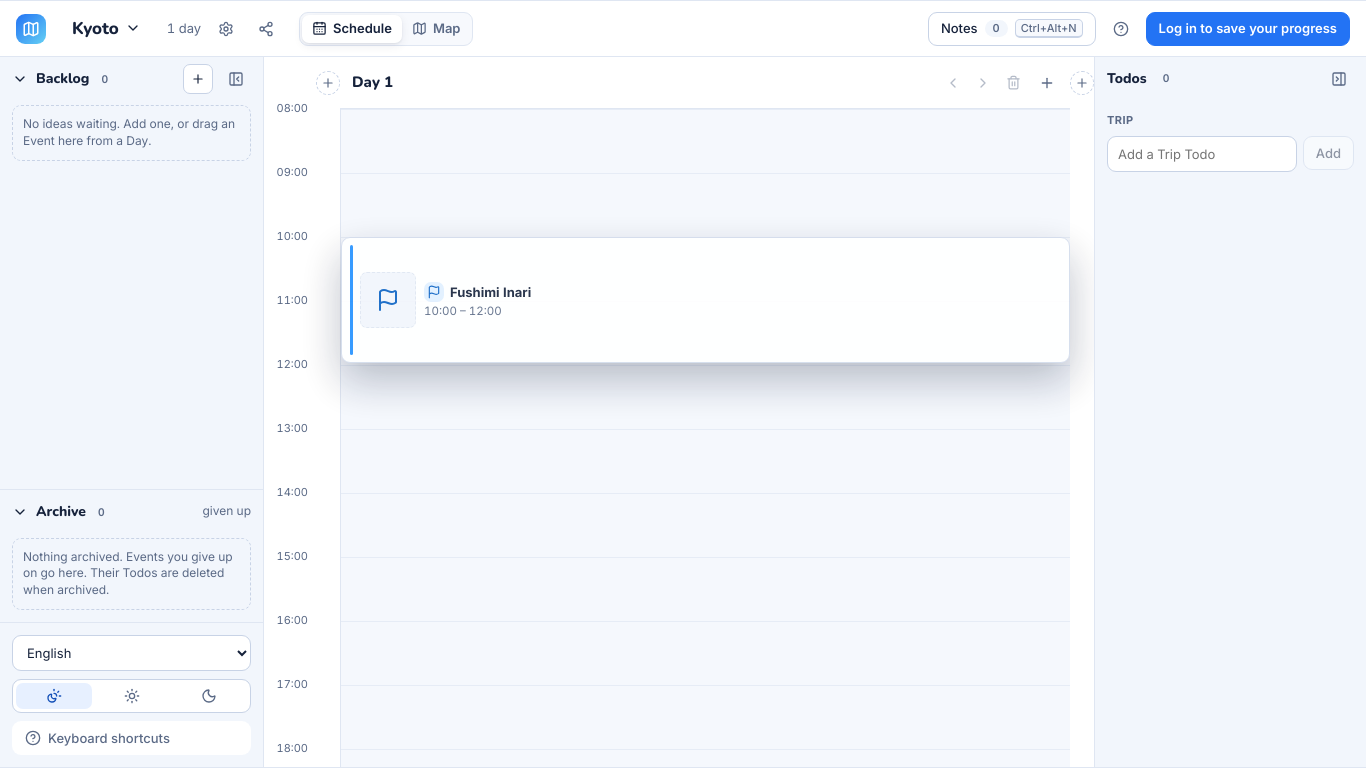
Scenario: one Trip at a time › shows the next Trip after the one shown is deleted
Expected: the text "Fushimi Inari" is shown, [450,284,531,300]
# Delete Trip… is in Trip settings, not in My Trips.
Click the button named "Trip settings": (226, 28) [211,14,241,44]
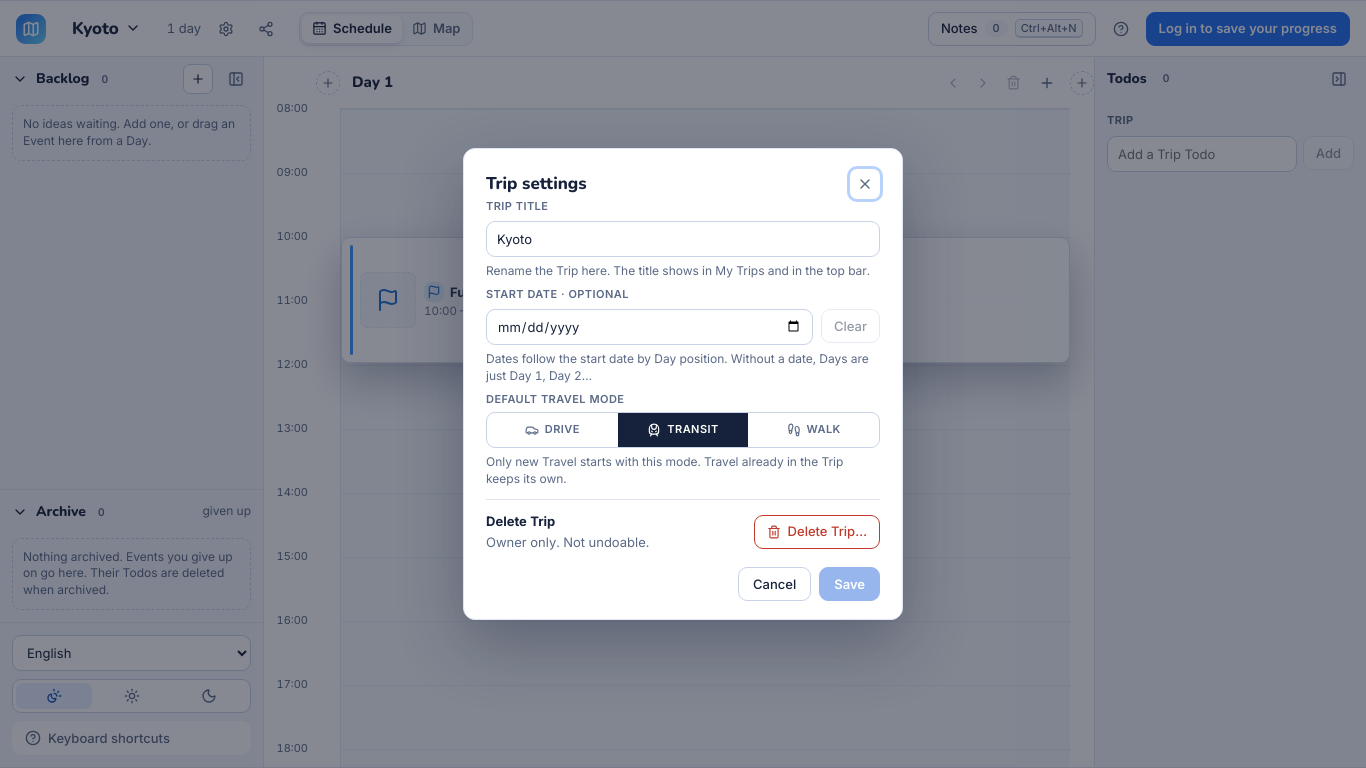
Click the button "Delete Trip…": (817, 532) [754,515,880,549]
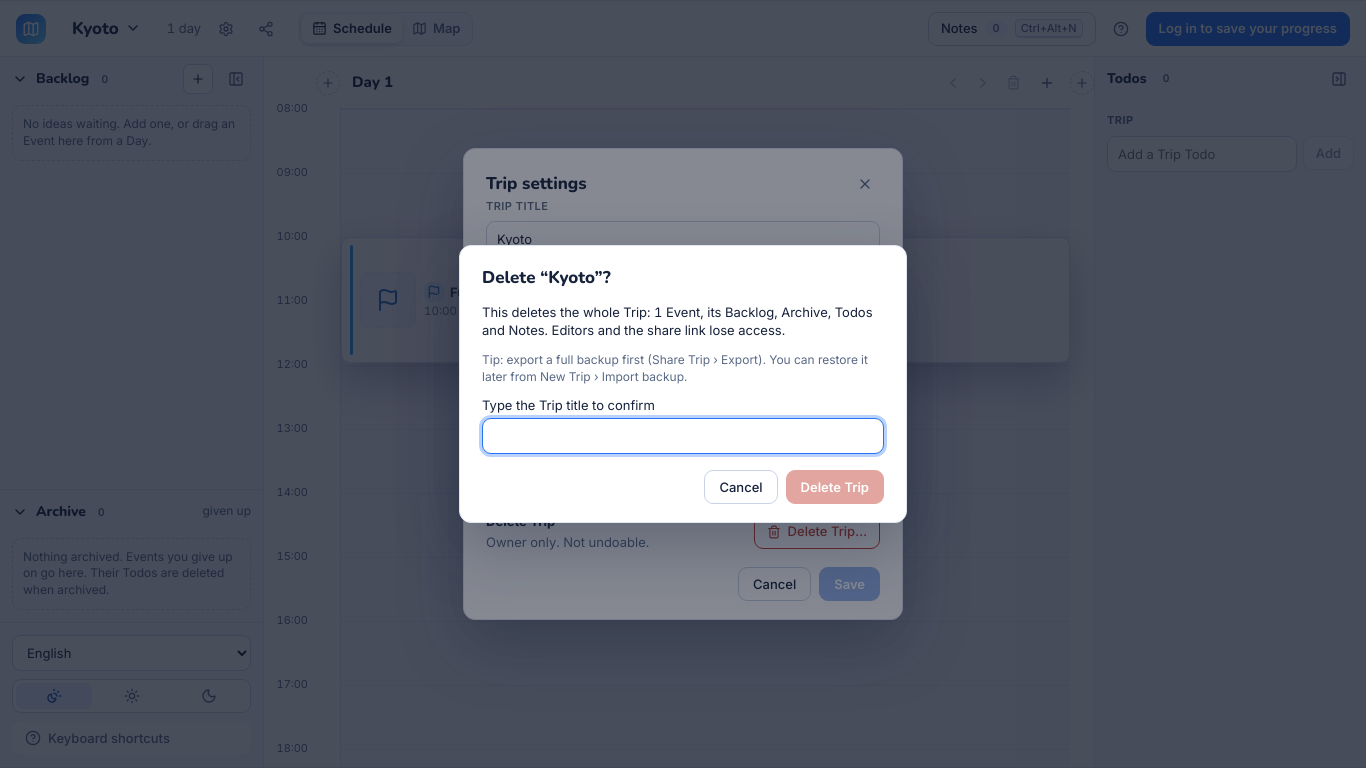
In the field labelled "Type the Trip title to confirm": (683, 436) [482,418,884,454], type "Kyoto"
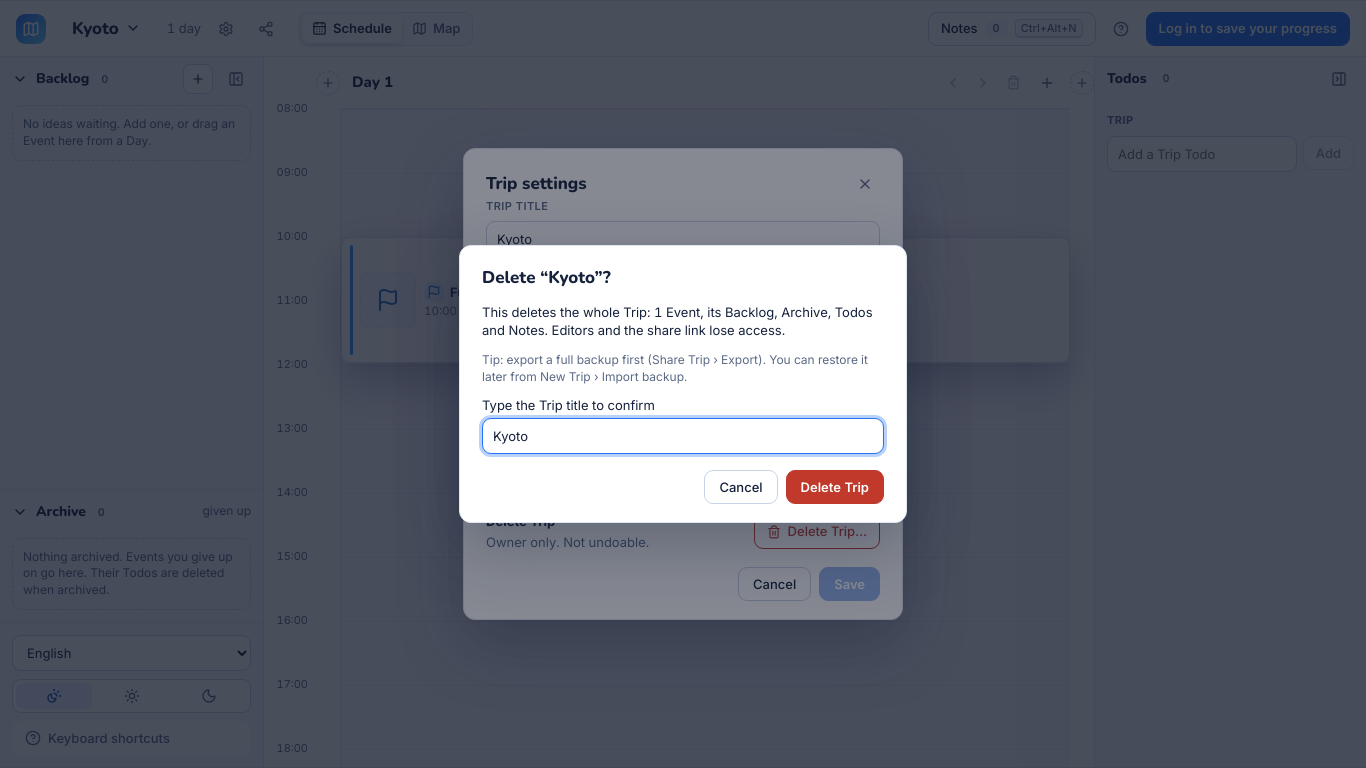
Click the button "Delete Trip": (835, 487) [786,470,884,504]
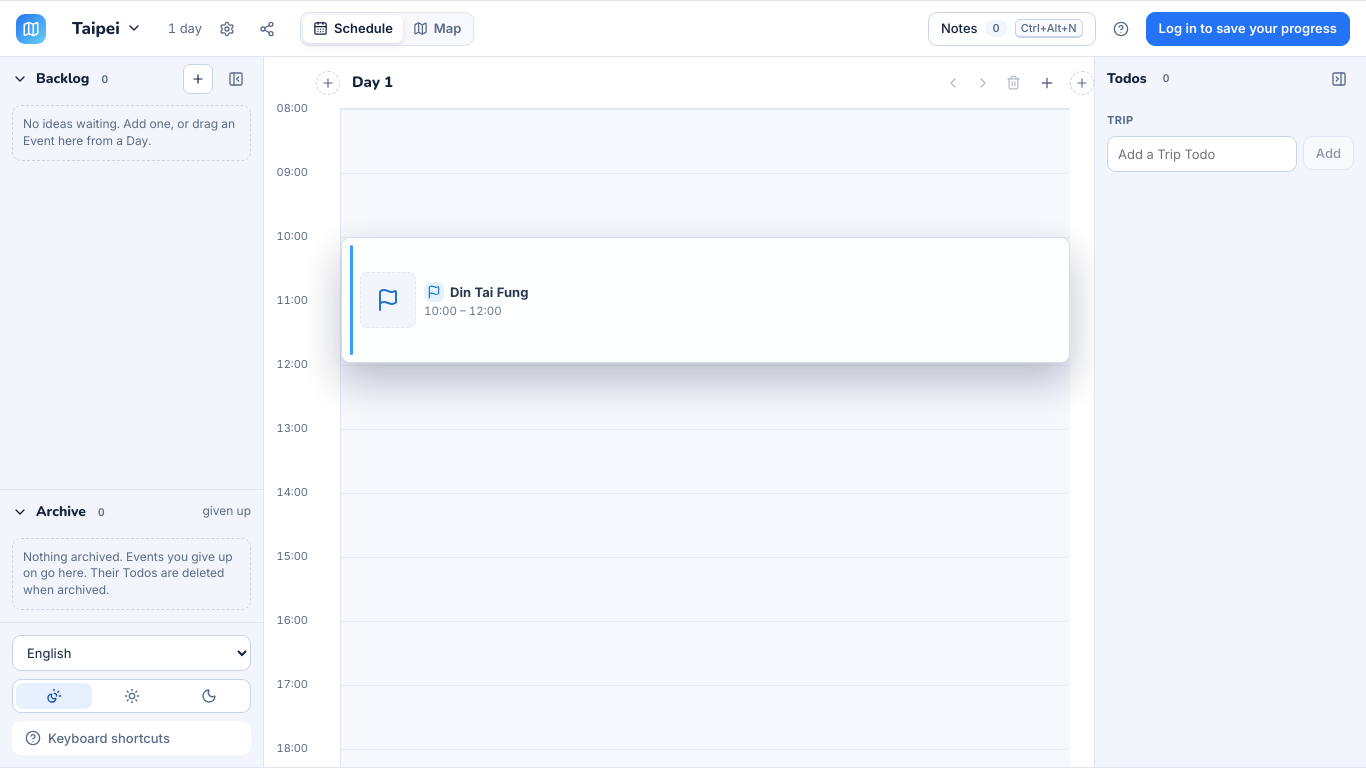
Now the text "Din Tai Fung" is shown, box [450,284,528,300]
Now the button "Fushimi Inari" is gone
